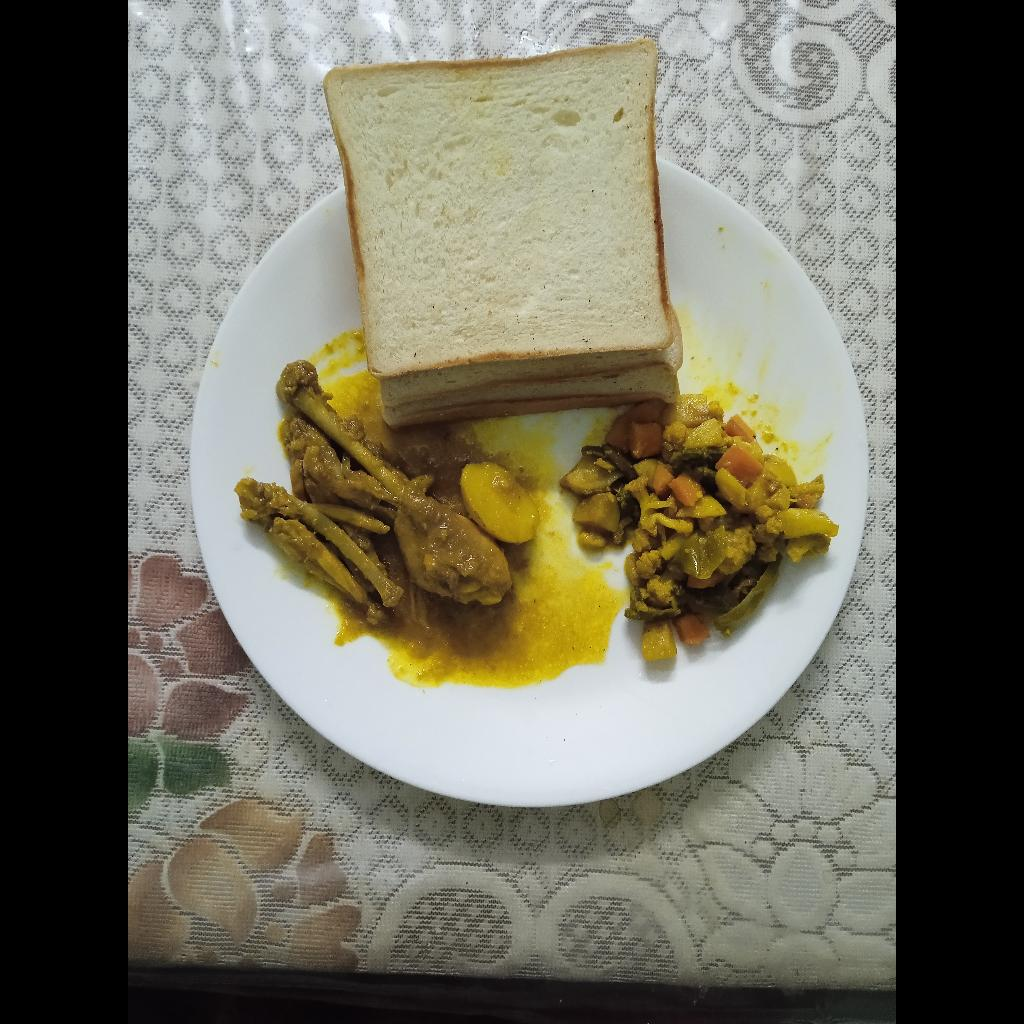bread: (320, 35, 684, 433)
chicken: (233, 357, 515, 627)
potato: (458, 462, 539, 544)
vegetable: (558, 396, 840, 665)
